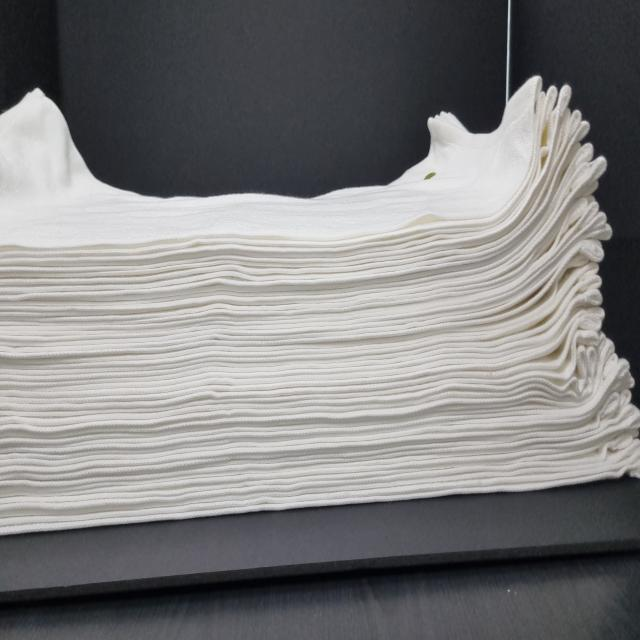50_towel_counts: (0, 58, 640, 545)
